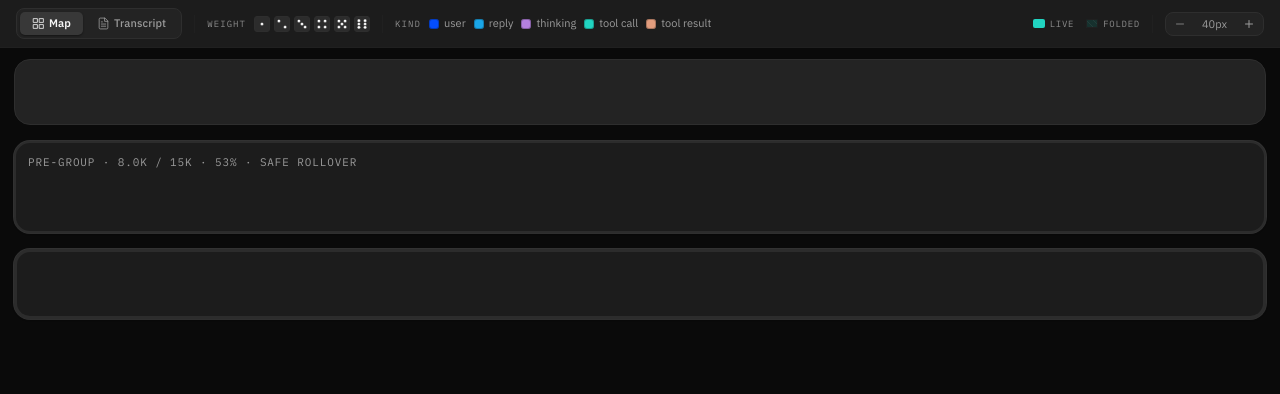
Test case: ContextMap Pre-Group transcript › reports safe early rollover below the target percentage
Click the button "Transcript" at [132, 24], box [85,12,178,35]
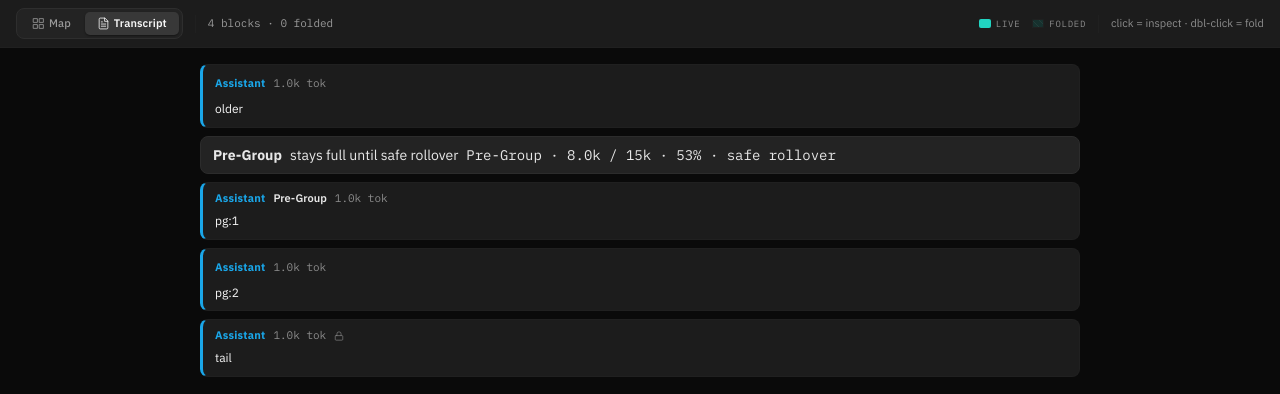
Now the element "Pre-Group" shows "53% · safe rollover", box [466,146,836,164]
Now the element labelled "Assistant Pre-Group 1.0k tok pg:1" is shown, box [200,182,1080,240]
